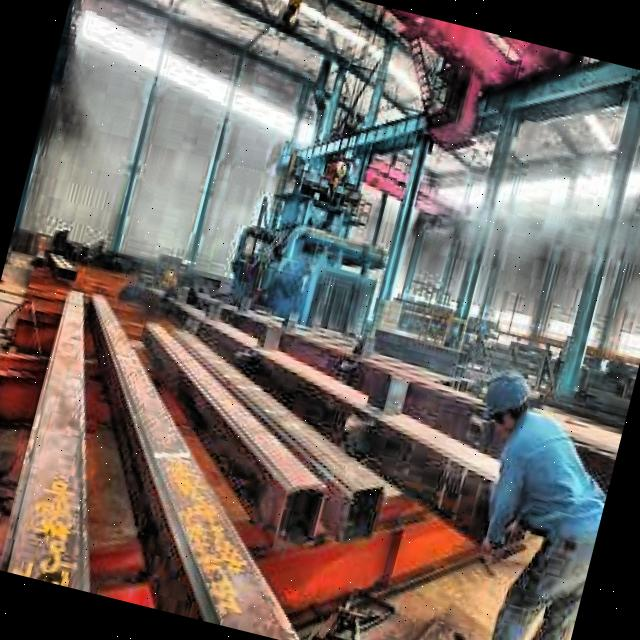helmet: (473, 364, 538, 444)
